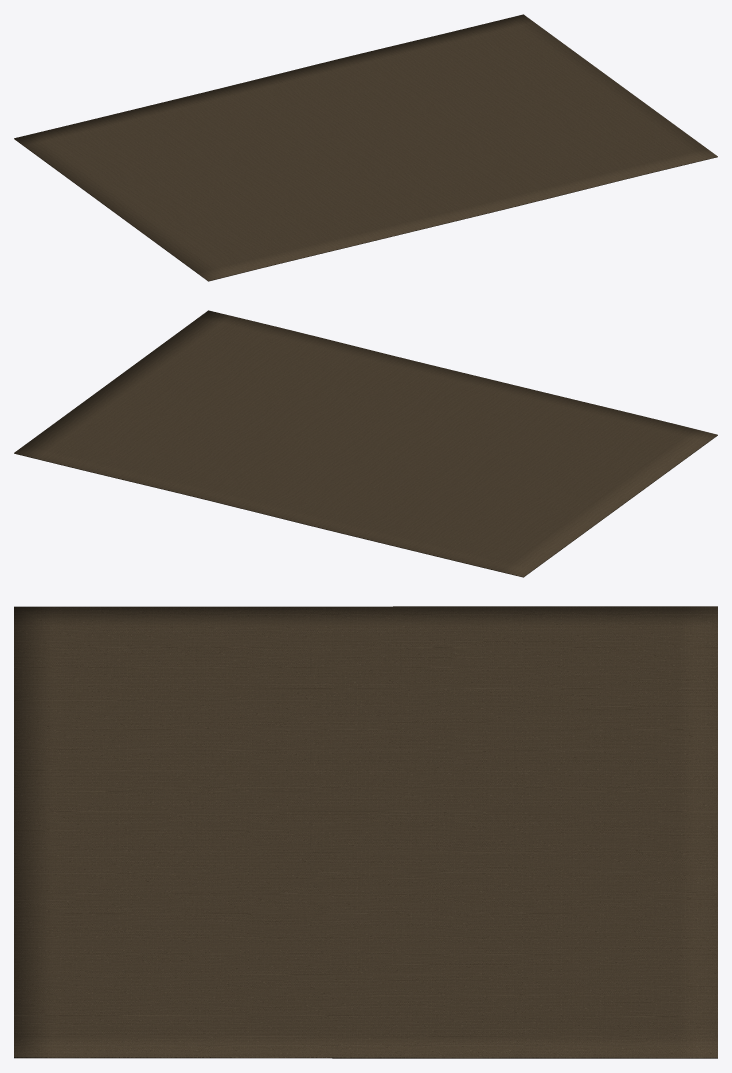
The model's file is scandinavian.throw.gltf.
3 views of the same model, one above another, from view 1: azimuth 30°, elevation 25°; view 2: azimuth 150°, elevation 25°; view 3: azimuth 270°, elevation 25° (orthographic). The views are drawn at different scales.
Visible parts, largest first — view 1: scandinavian.throw.folded-linen; view 2: scandinavian.throw.folded-linen; view 3: scandinavian.throw.folded-linen.
Boxes of the visible parts, box(x1,y1,x2,y2) form: scandinavian.throw.folded-linen: box(14, 14, 717, 281); scandinavian.throw.folded-linen: box(14, 310, 717, 577); scandinavian.throw.folded-linen: box(14, 606, 717, 1058).
Size of the model in its own units: 1.15 by 0.00292 by 0.76.
1 material, 1 textured.
